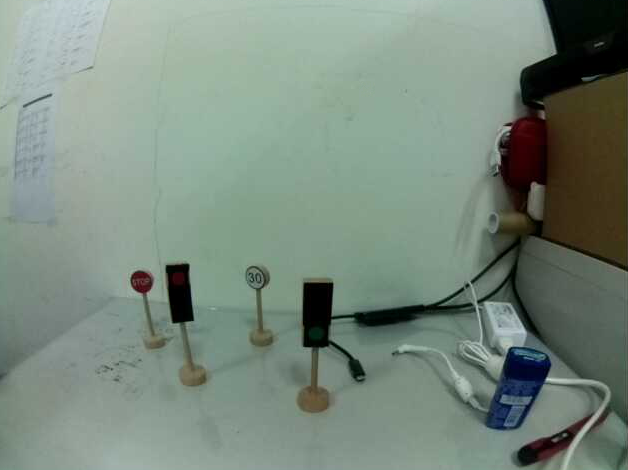Green: (297, 276, 340, 354)
Red: (162, 261, 200, 329)
Speed30: (244, 263, 272, 290)
Stop: (128, 267, 156, 297)
